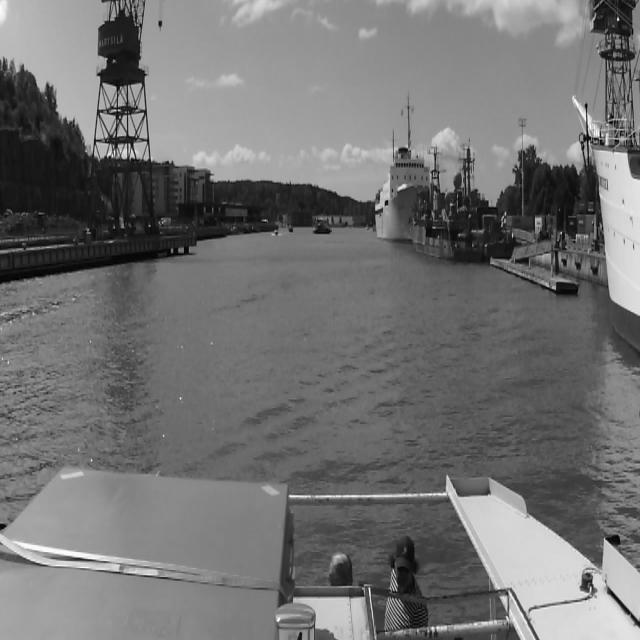ship: (569, 0, 639, 355), (410, 145, 484, 266), (312, 218, 332, 234), (272, 226, 278, 236), (288, 226, 294, 233)
